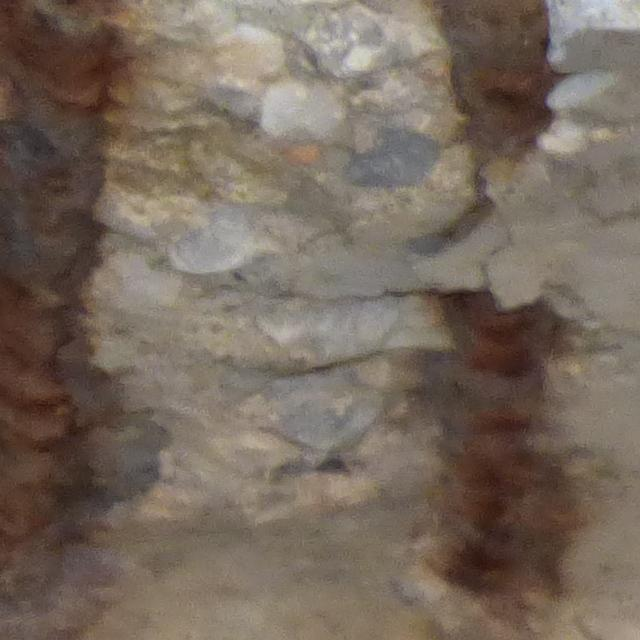Rust: (6, 5, 134, 606), (418, 277, 587, 593), (428, 3, 559, 166)
